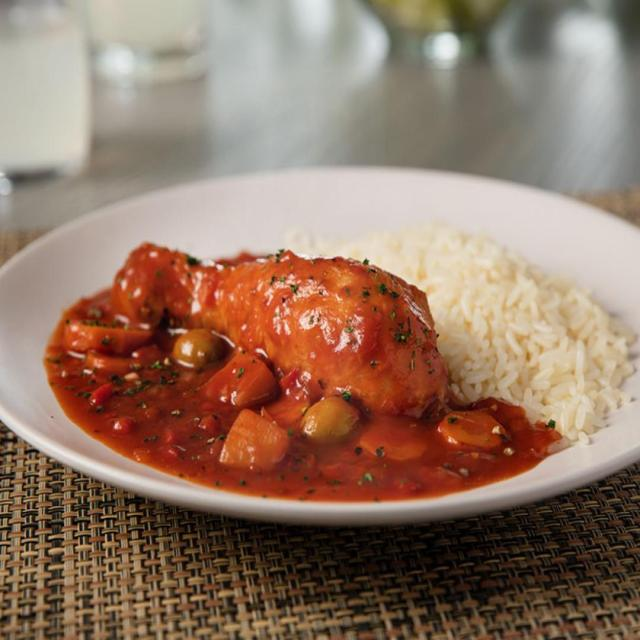arroz: (428, 210, 632, 444)
pollo: (96, 220, 448, 416)
